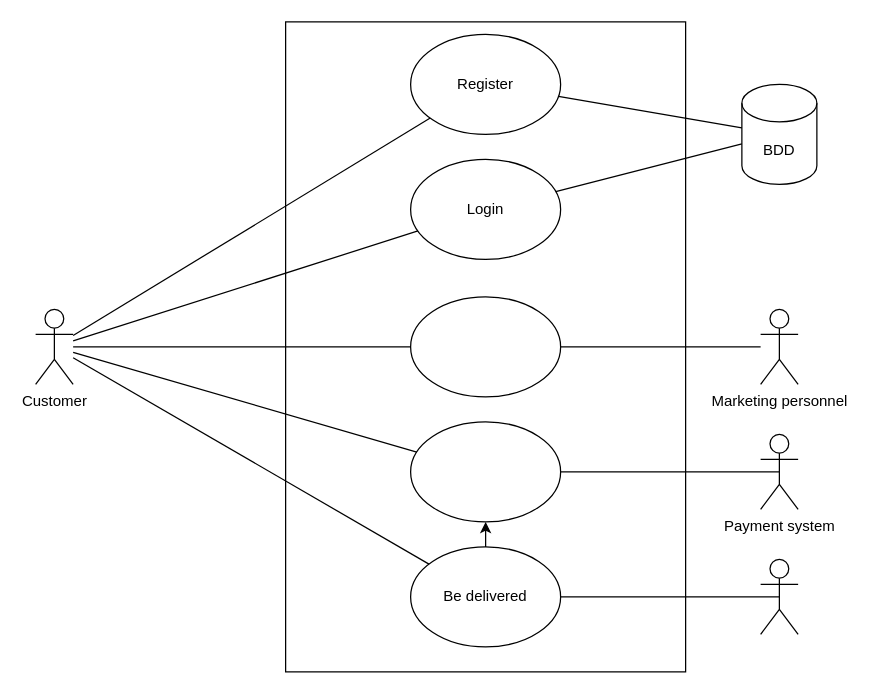
The diagram is 869 pixels wide and 694 high, and some of its shapes have lost their labels. Here are the shapes that lost their labels. From the top down, the centre of each, then its label:
At (x=485, y=346): "Marketing".
At (x=485, y=471): "Buy product".
At (x=778, y=596): "Post service".
